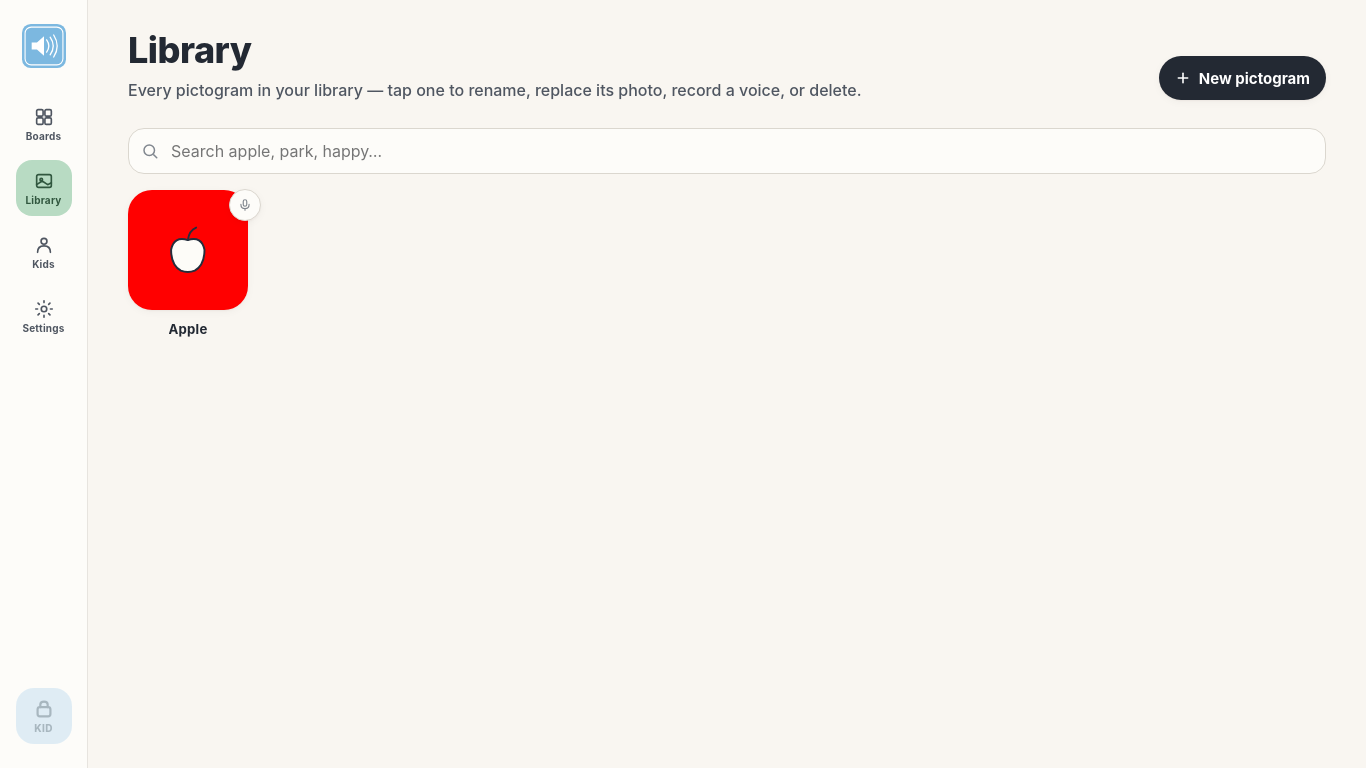
Test: LibraryRoute › New pictogram opens the upload modal and Close dismisses it (#339)
Click the button "New pictogram" at coordinates (1242, 78), box x1=1159 y1=56 x2=1326 y2=100
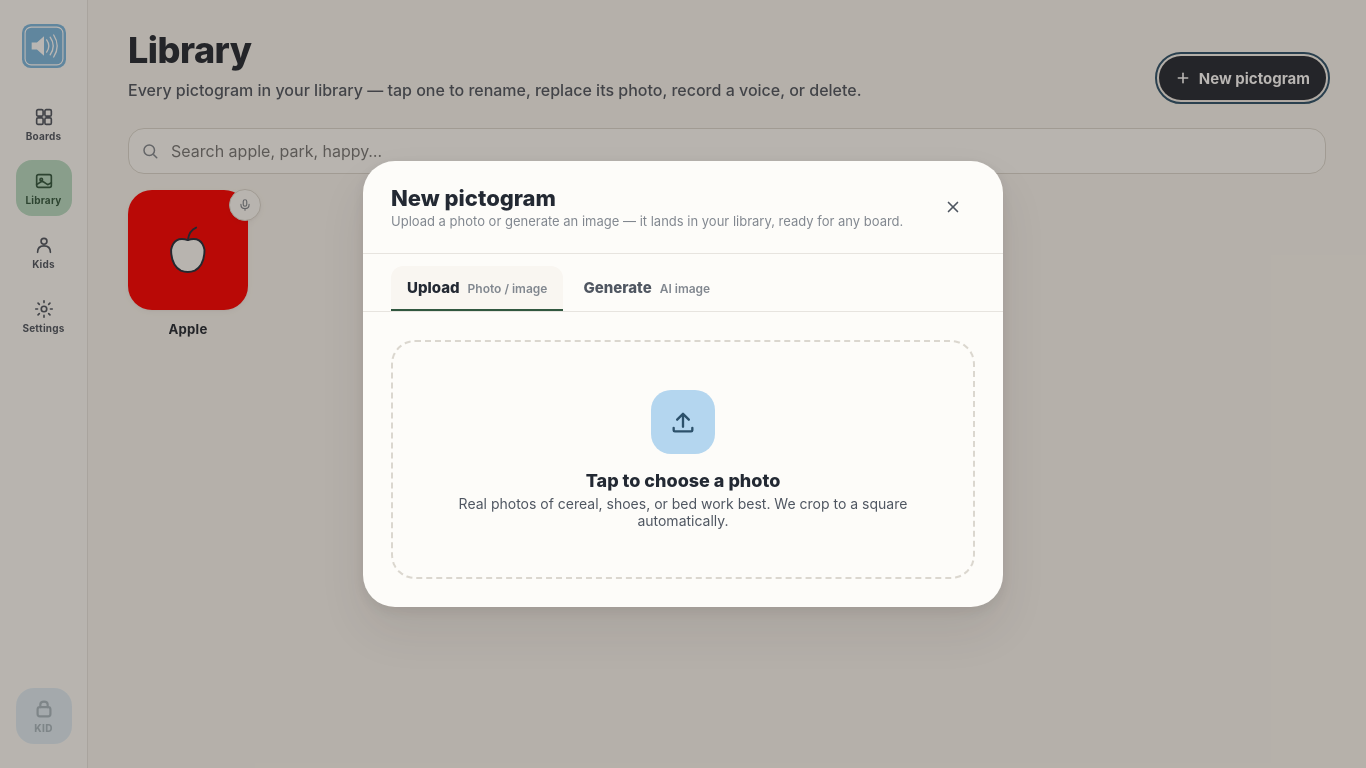
Expected: the dialog "New pictogram" is shown, x1=363 y1=161 x2=1003 y2=607
Click the button named "close" at coordinates (953, 207), box x1=931 y1=185 x2=975 y2=229
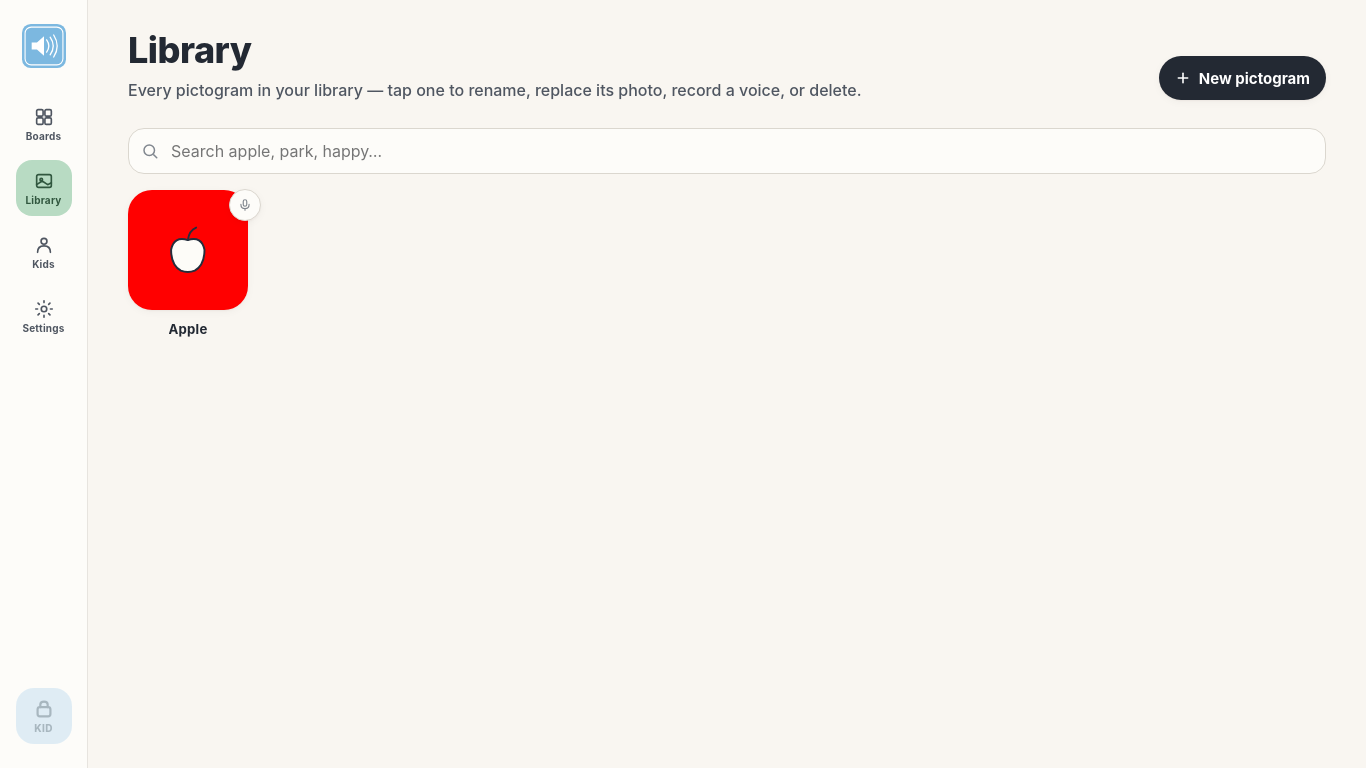
Expected: the dialog is gone
